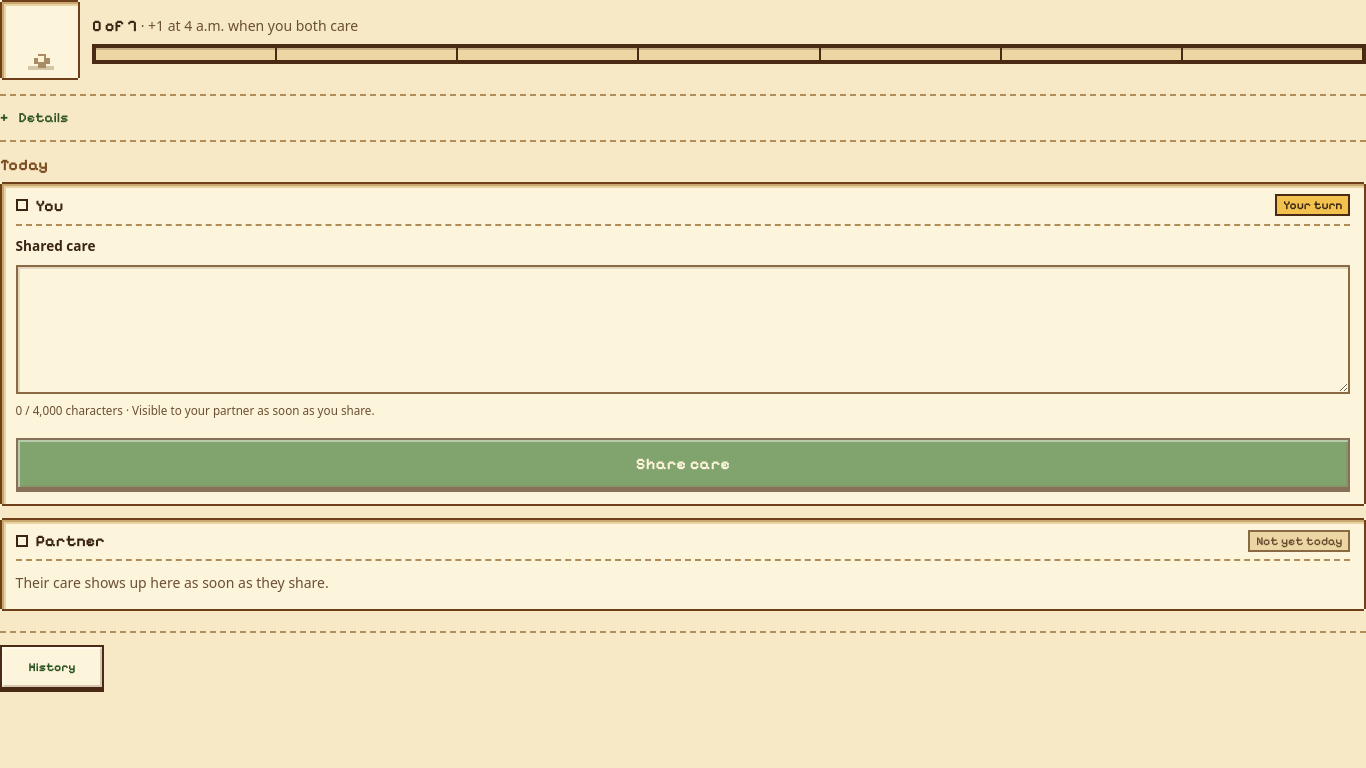
Test: keeps Daisy history answers without exposing raw question ids
Click the button with aria-label "Read history". click: x=52, y=667
box: 0,645 -> 104,689
(page scrolled)
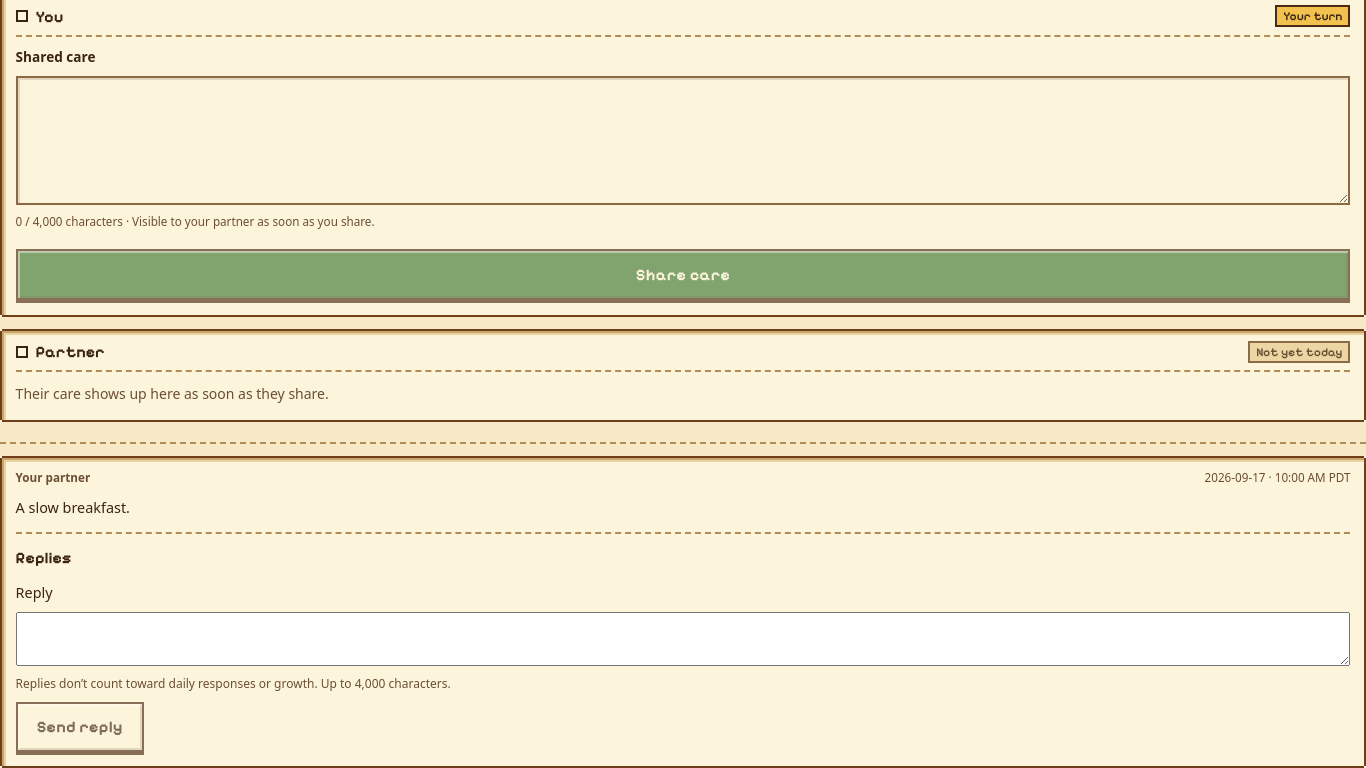
expect the element named "Flower history" does not show "light-042": met, box 0,442 -> 1365,767
expect the text "A slow breakfast." is shown: met, box 16,498 -> 130,517
